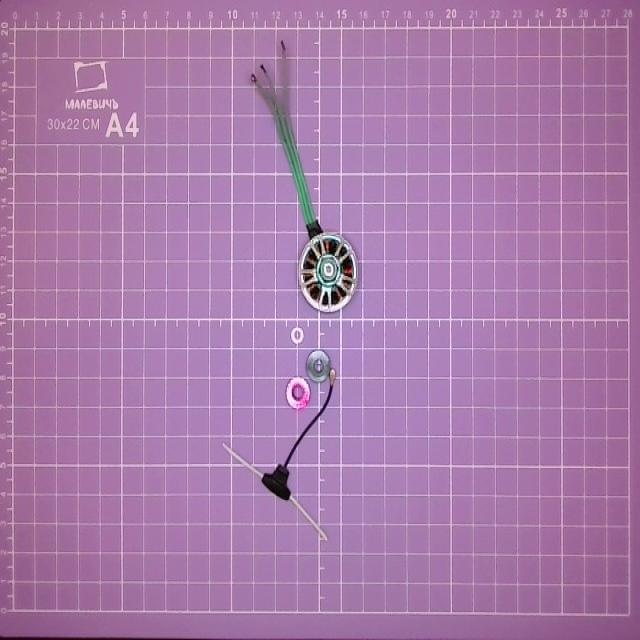antenna: (224, 364, 336, 540)
motor: (245, 38, 360, 314)
screw_M3: (289, 326, 306, 346)
screw_M5: (284, 375, 312, 414), (308, 349, 330, 384)
